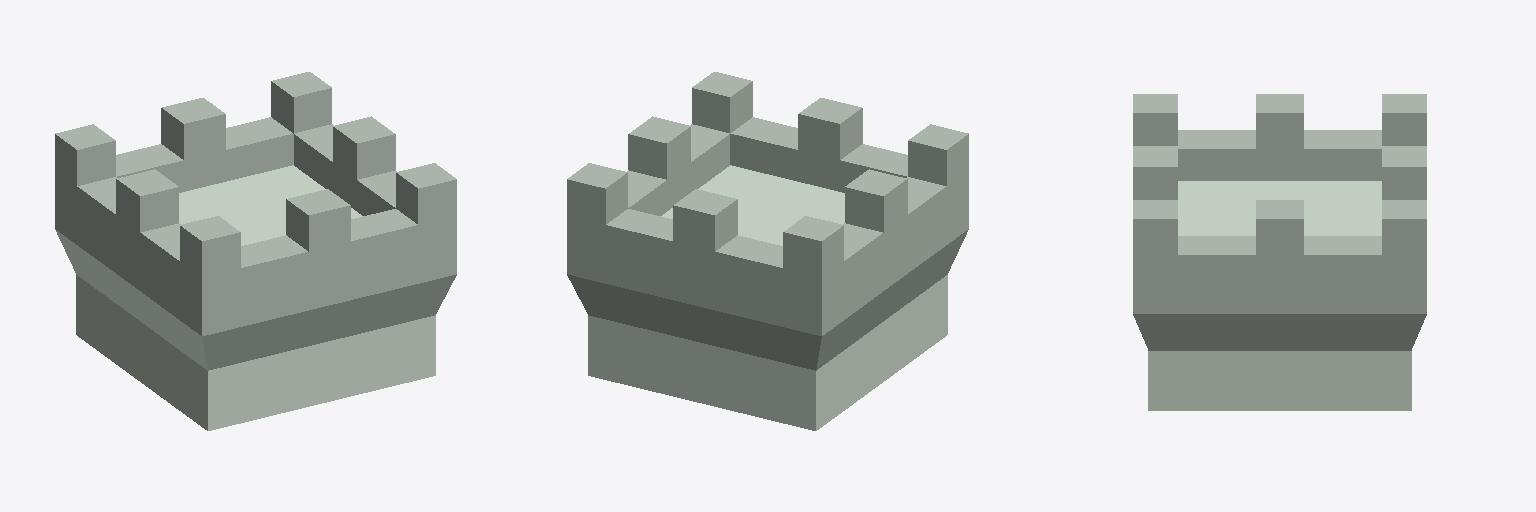
Rendered from tile_005.obj.
The picture shows the model from 3 angles: view 1: azimuth 30°, elevation 25°; view 2: azimuth 150°, elevation 25°; view 3: azimuth 270°, elevation 25°; orthographic projection.
Visible parts, largest first — view 1: tile_005; view 2: tile_005; view 3: tile_005.
Part boxes in pixels (x1,y1,x2,y2): tile_005: (55,72,456,430); tile_005: (567,72,968,430); tile_005: (1133,94,1426,410).
Bounding box in the file's own units: 0.6609 × 0.4926 × 0.6609.